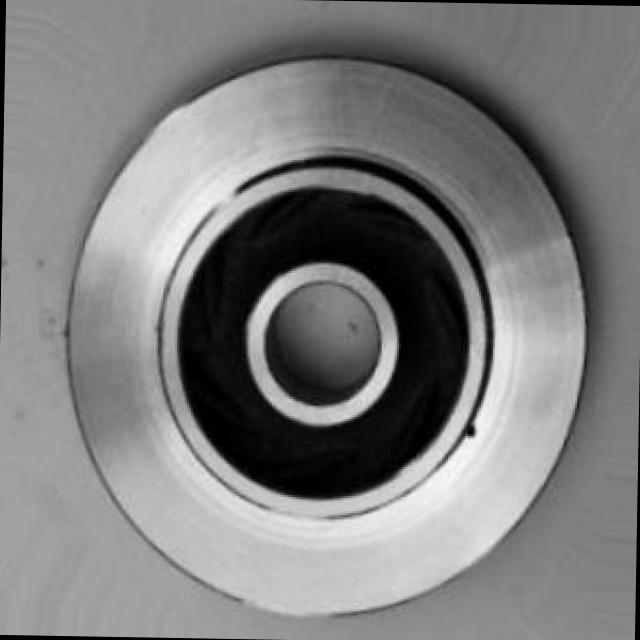Defect: (459, 414, 489, 447)
